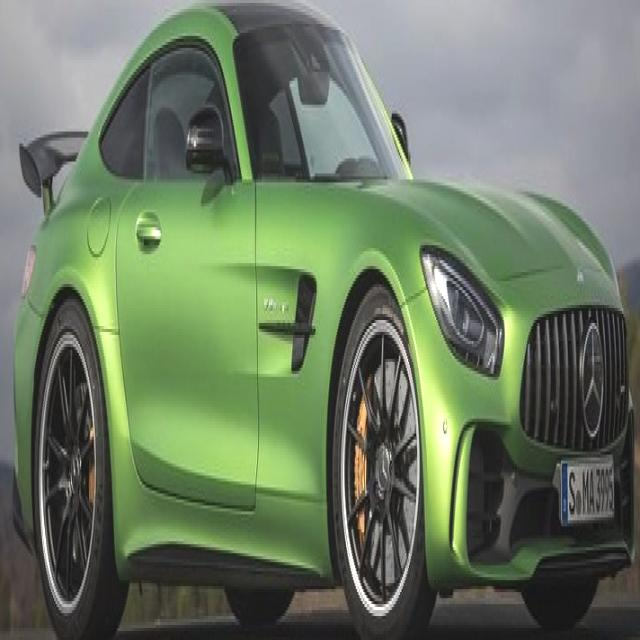green: (20, 15, 640, 640)
